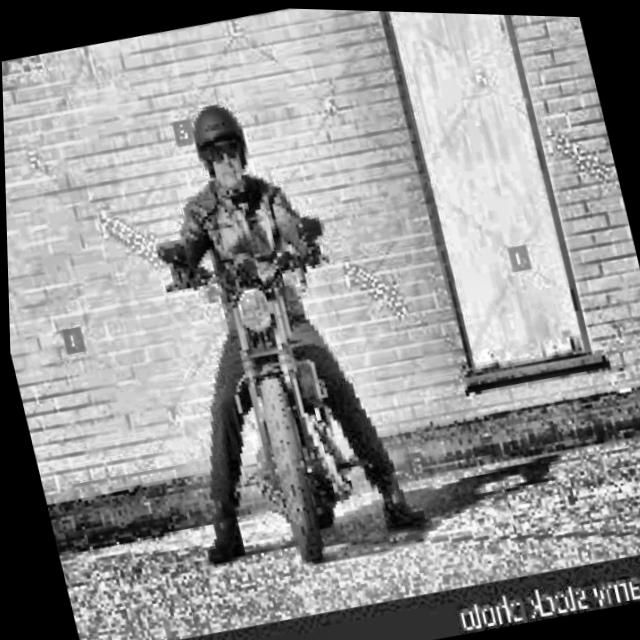motorcycle: (138, 208, 413, 582)
